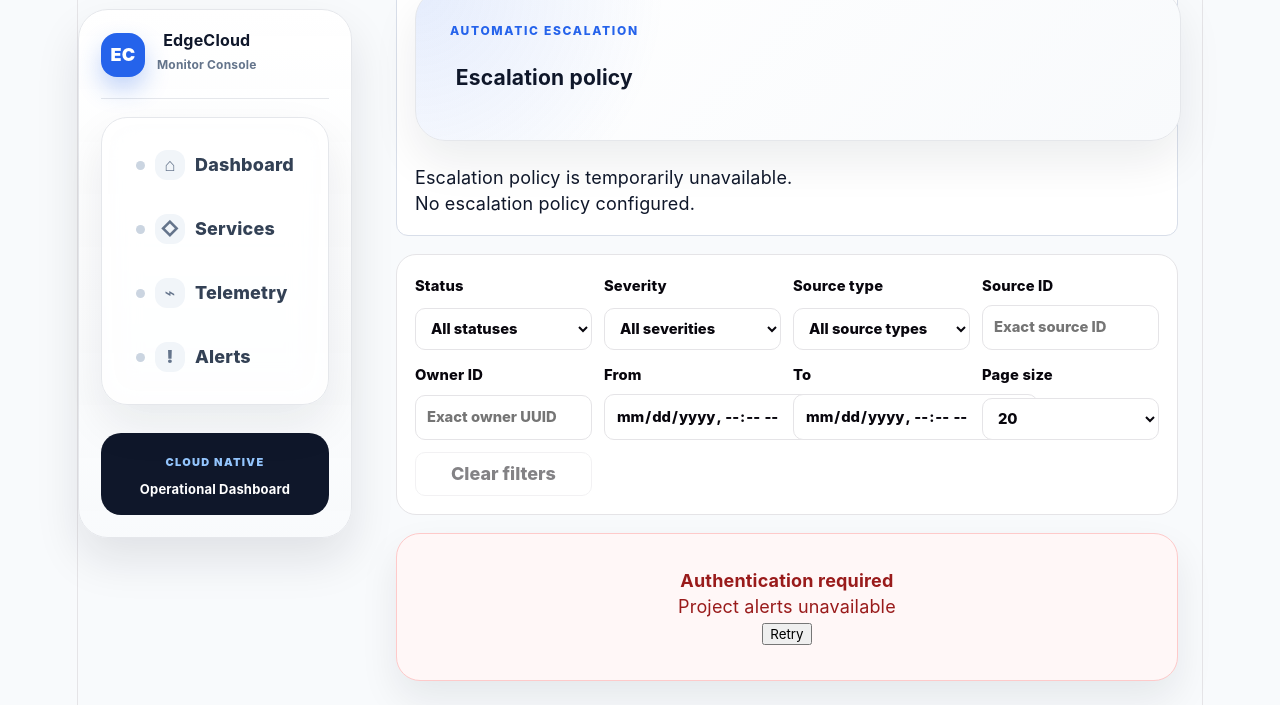
Test: ProjectAlertsPage › shows API authorization errors and supports retry
The width and height of the screenshot is (1280, 705).
(page scrolled)
Expected: the text "Authentication required" is shown, [680,570,894,591]
Click the button "Retry" at (787, 634), box [762,623,812,645]
(page scrolled)
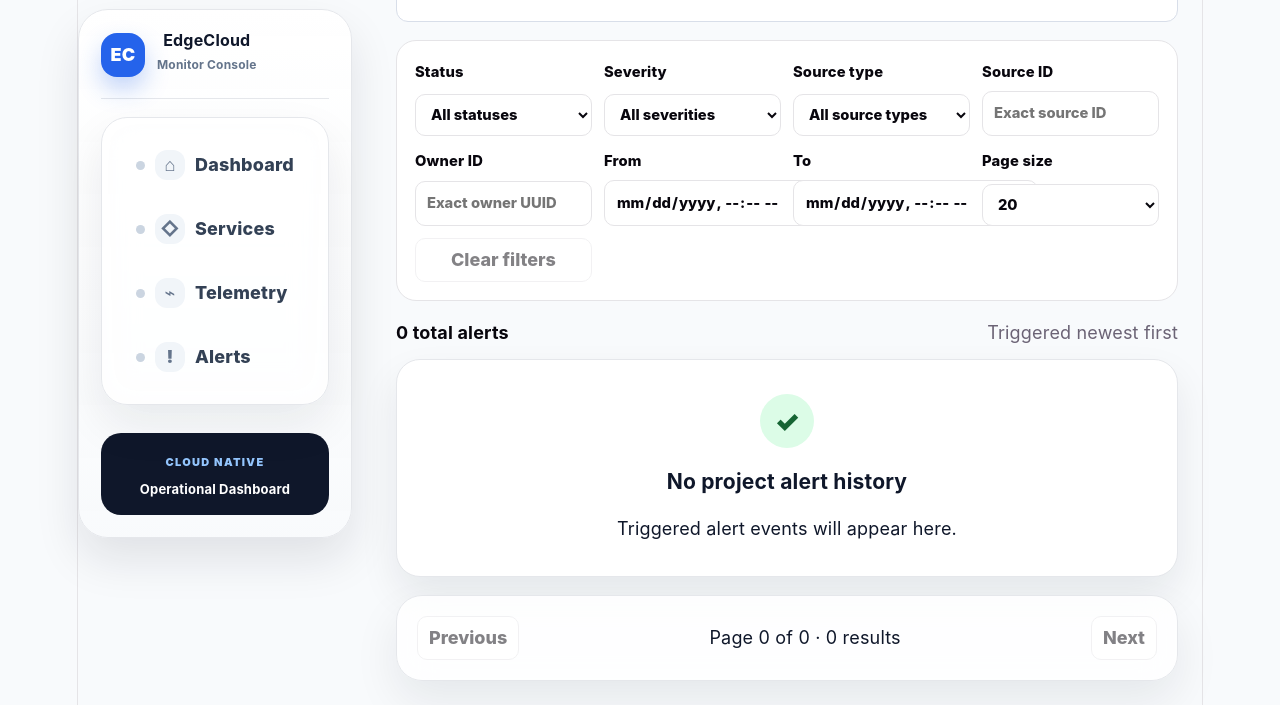
Now the heading "No project alert history" is shown, box [667,469,907,494]
